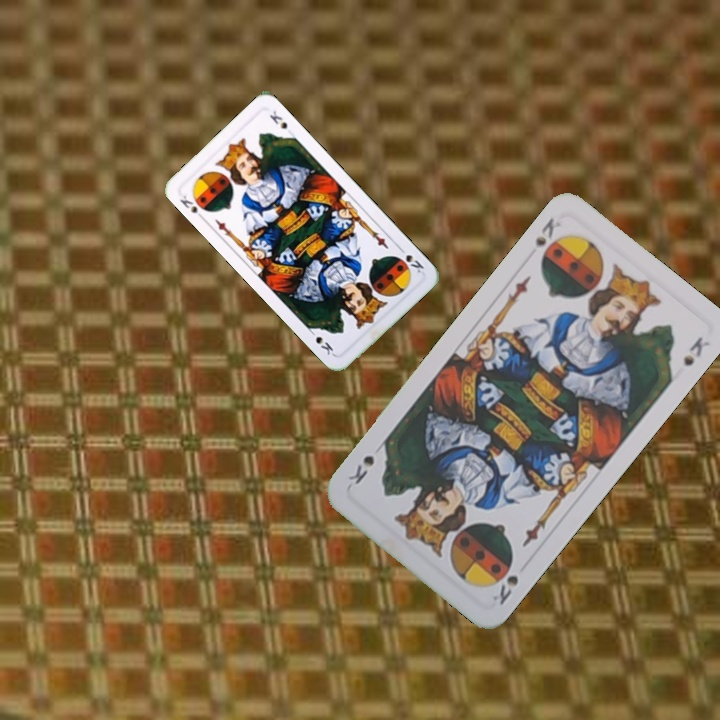SK: (530, 213, 565, 251), (488, 571, 521, 608), (394, 242, 427, 276), (176, 191, 207, 222)
